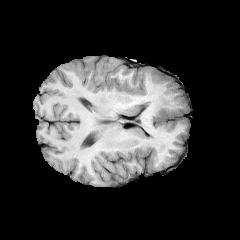glioma: (125, 88, 188, 123)
